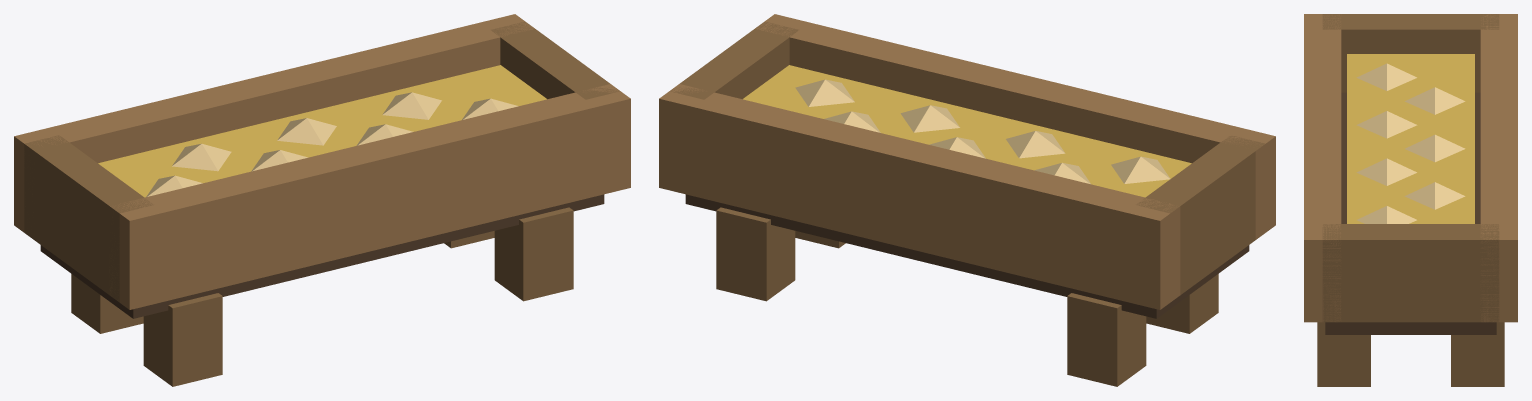
File: trough.glb
3 renders of one model, left to right at view 1: azimuth 30°, elevation 25°; view 2: azimuth 150°, elevation 25°; view 3: azimuth 270°, elevation 25°, orthographic. The views are drawn at different scales.
Parts seen in each view (by area): view 1: Trough_side, Trough_side.001, fill, Trough_end, Trough_short_leg.002, Trough_short_leg, Trough_floor, Trough_end.001, Trough_short_leg.001; view 2: Trough_side.001, Trough_side, fill, Trough_end, Trough_short_leg.003, Trough_short_leg.001, Trough_floor, Trough_end.001, Trough_short_leg; view 3: fill, Trough_end.001, Trough_side, Trough_side.001, Trough_end, Trough_floor, Trough_short_leg.002, Trough_short_leg.003.
Part boxes in pixels (x1=…): Trough_side: x1=109, y1=84, x2=630, y2=309; Trough_side.001: x1=14, y1=14, x2=534, y2=232; fill: x1=98, y1=65, x2=546, y2=197; Trough_end: x1=24, y1=135, x2=153, y2=302; Trough_short_leg.002: x1=494, y1=207, x2=573, y2=301; Trough_short_leg: x1=143, y1=293, x2=222, y2=386; Trough_floor: x1=40, y1=194, x2=604, y2=318; Trough_end.001: x1=491, y1=21, x2=619, y2=99; Trough_short_leg.001: x1=71, y1=274, x2=143, y2=333; Trough_side.001: x1=659, y1=84, x2=1180, y2=309; Trough_side: x1=755, y1=14, x2=1275, y2=239; fill: x1=743, y1=65, x2=1191, y2=197; Trough_end: x1=1136, y1=136, x2=1265, y2=294; Trough_short_leg.003: x1=716, y1=207, x2=795, y2=301; Trough_short_leg.001: x1=1067, y1=293, x2=1146, y2=386; Trough_floor: x1=685, y1=194, x2=1249, y2=318; Trough_end.001: x1=670, y1=21, x2=798, y2=99; Trough_short_leg: x1=1146, y1=274, x2=1218, y2=333; fill: x1=1347, y1=54, x2=1474, y2=223; Trough_end.001: x1=1322, y1=224, x2=1499, y2=322; Trough_side: x1=1304, y1=14, x2=1341, y2=322; Trough_side.001: x1=1480, y1=14, x2=1517, y2=322; Trough_end: x1=1322, y1=14, x2=1499, y2=92; Trough_floor: x1=1325, y1=92, x2=1496, y2=334; Trough_short_leg.002: x1=1317, y1=322, x2=1370, y2=386; Trough_short_leg.003: x1=1451, y1=322, x2=1504, y2=386.
Size of the model in its own units: 1 by 0.35 by 0.4.
